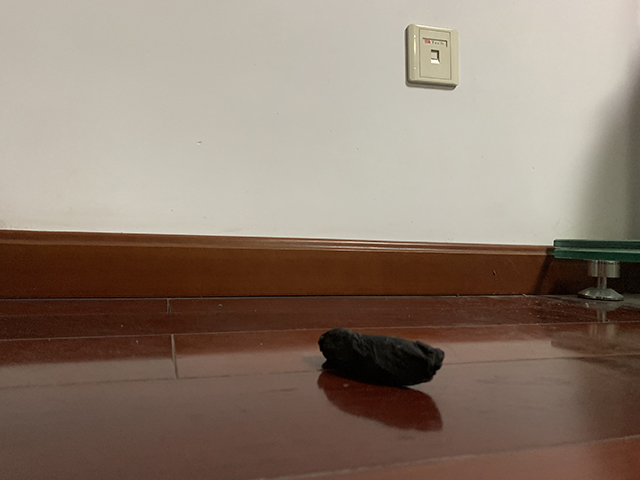feces: (316, 325, 446, 387)
